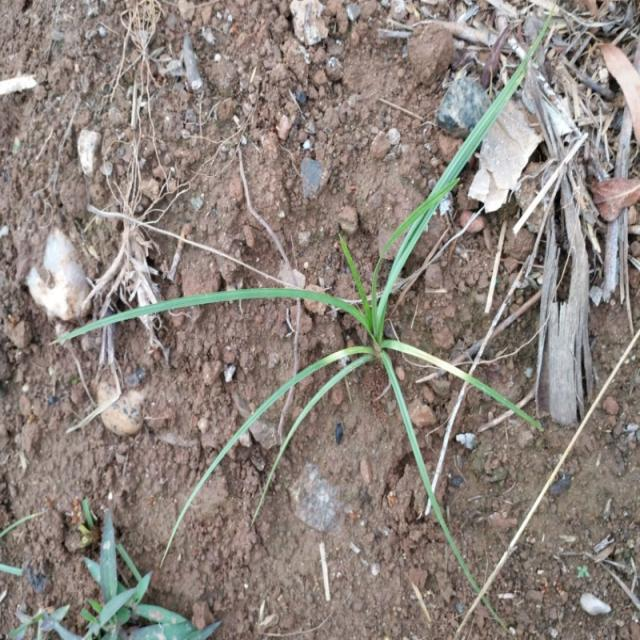sedge: (88, 104, 622, 566)
